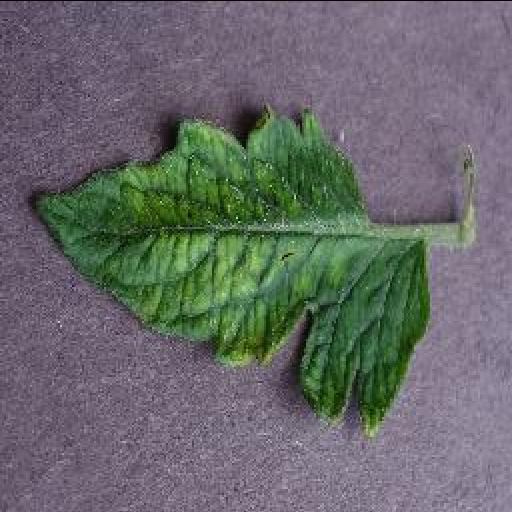Mosaic Virus: (30, 99, 432, 445)
